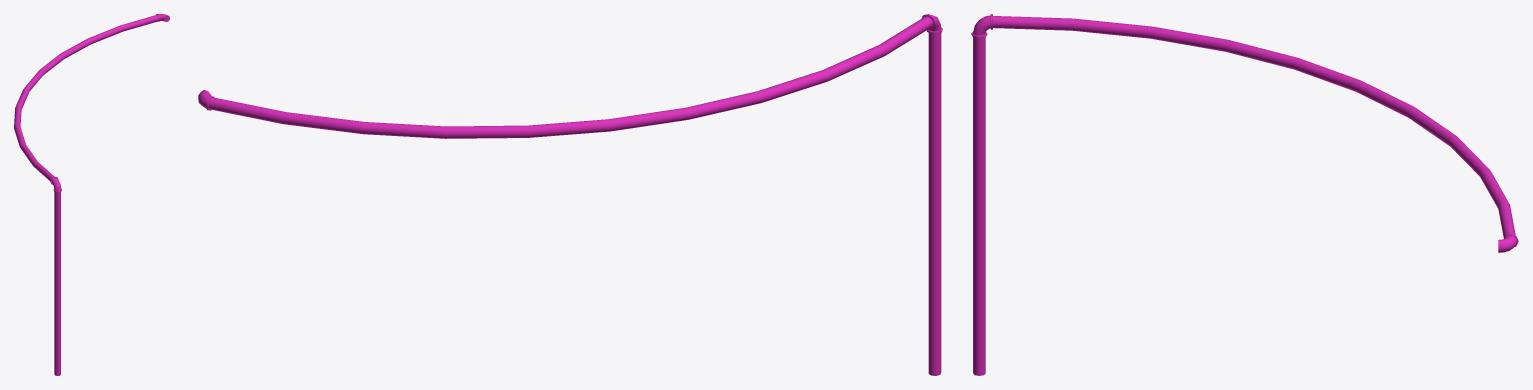
File: Tank_Pipe_02_Lod1.fbx
3 renders of one model, left to right at view 1: azimuth 30°, elevation 25°; view 2: azimuth 150°, elevation 25°; view 3: azimuth 270°, elevation 25°, orthographic. The views are drawn at different scales.
Parts seen in each view (by area): view 1: Tank_Pipe_02_Lod1; view 2: Tank_Pipe_02_Lod1; view 3: Tank_Pipe_02_Lod1.
Part boxes in pixels (x1,y1,x2,y2): Tank_Pipe_02_Lod1: [14, 14, 169, 375]; Tank_Pipe_02_Lod1: [198, 14, 942, 375]; Tank_Pipe_02_Lod1: [971, 14, 1518, 375].
Bounding box in the file's own units: 4034 × 2927 × 4042.
